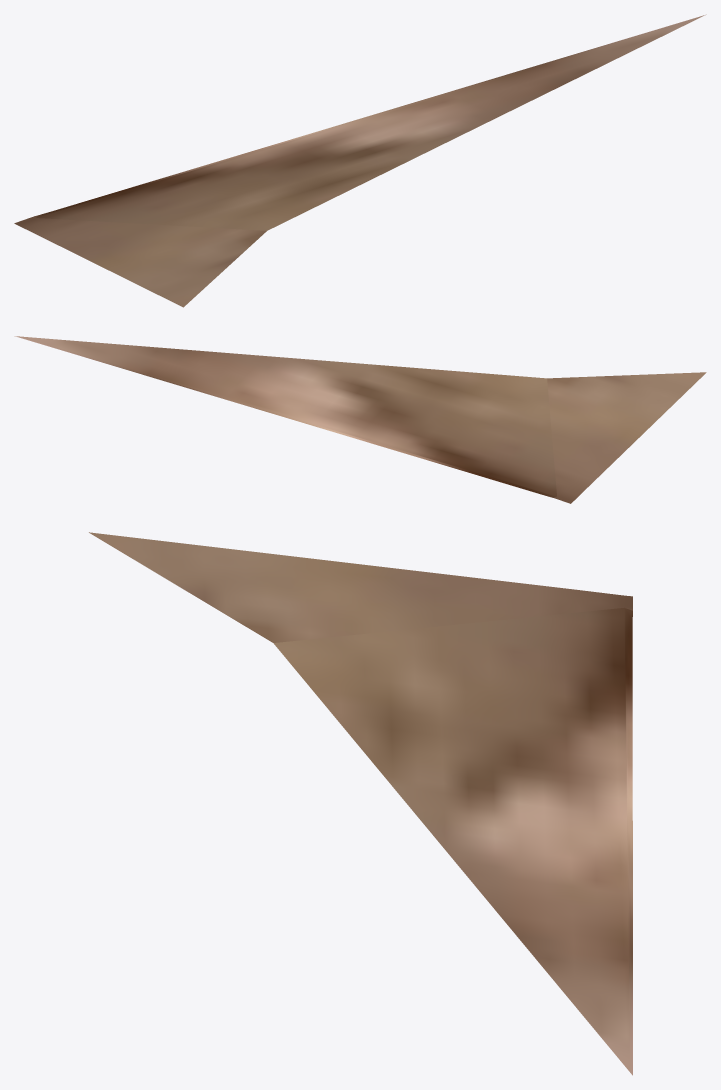
3 views of the same model, one above another, from view 1: azimuth 30°, elevation 25°; view 2: azimuth 150°, elevation 25°; view 3: azimuth 270°, elevation 25° (orthographic). The views are drawn at different scales.
Bounding box in the file's own units: 0.244 × 0.0134 × 0.1034.
1 material, 1 textured.
